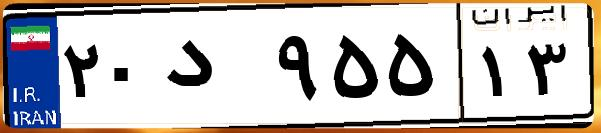0: (110, 28, 158, 98)
1: (475, 38, 525, 113)
2: (57, 26, 110, 100)
3: (525, 38, 570, 115)
5: (385, 28, 445, 110), (330, 28, 385, 110)
9: (270, 28, 330, 110)
د: (158, 20, 270, 120)
